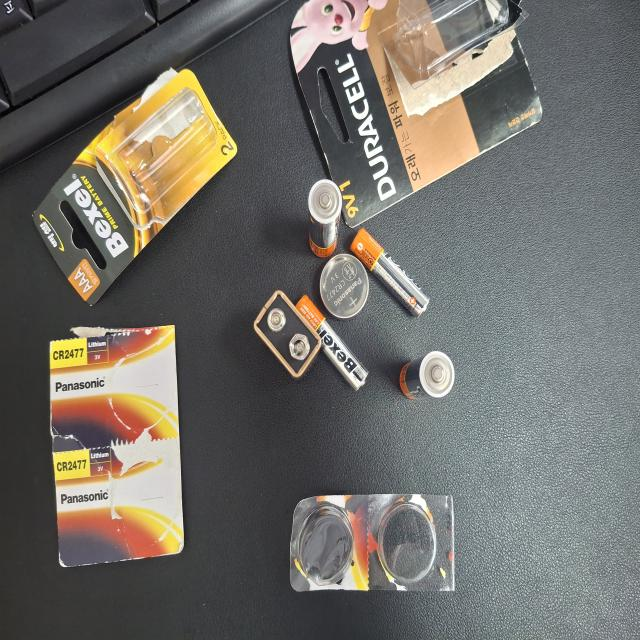9V: (196, 338, 262, 426)
AA: (180, 533, 217, 606), (287, 411, 345, 456)
AAA: (242, 468, 308, 572), (188, 394, 258, 491)
COIN: (242, 427, 289, 492)
